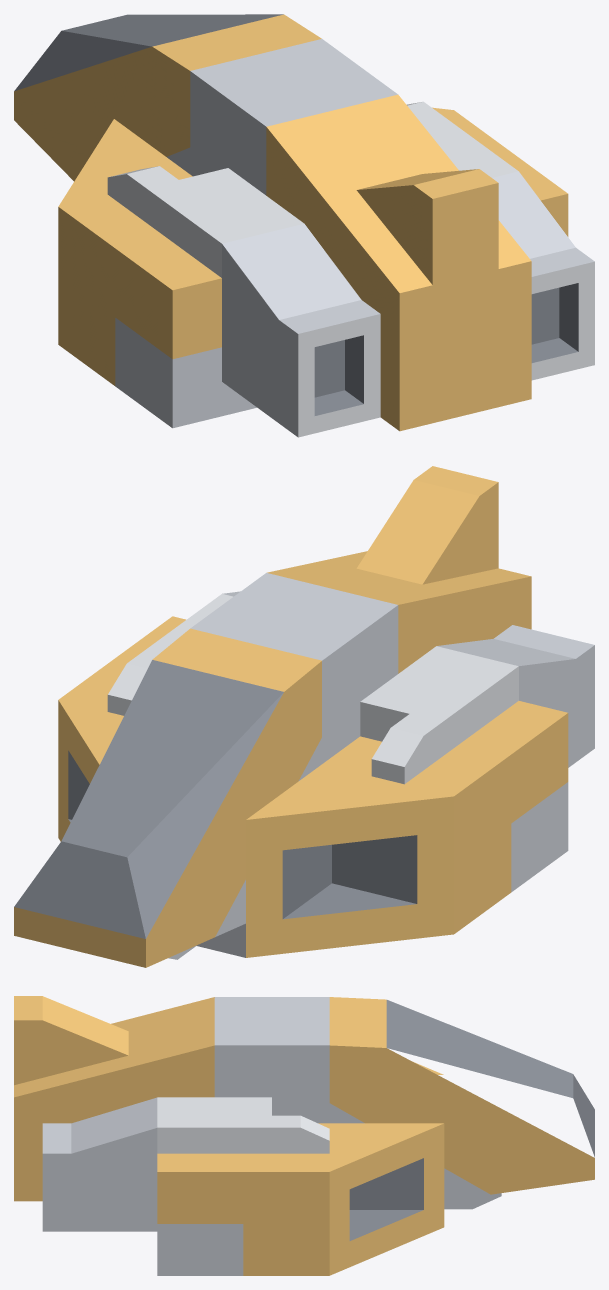
File: craft_racer.glb
The picture shows the model from 3 angles, top to bottom: view 1: azimuth 30°, elevation 25°; view 2: azimuth 150°, elevation 25°; view 3: azimuth 270°, elevation 25°; orthographic projection. The views are drawn at different scales.
Parts seen in each view (by area): view 1: craft_racer; view 2: craft_racer; view 3: craft_racer.
Boxes of the visible parts, x1,y1,x2,y2 form: craft_racer: [14, 14, 594, 437]; craft_racer: [14, 466, 594, 967]; craft_racer: [14, 996, 594, 1275].
Bounding box in the file's own units: 1.2 × 0.75 × 2.03.
